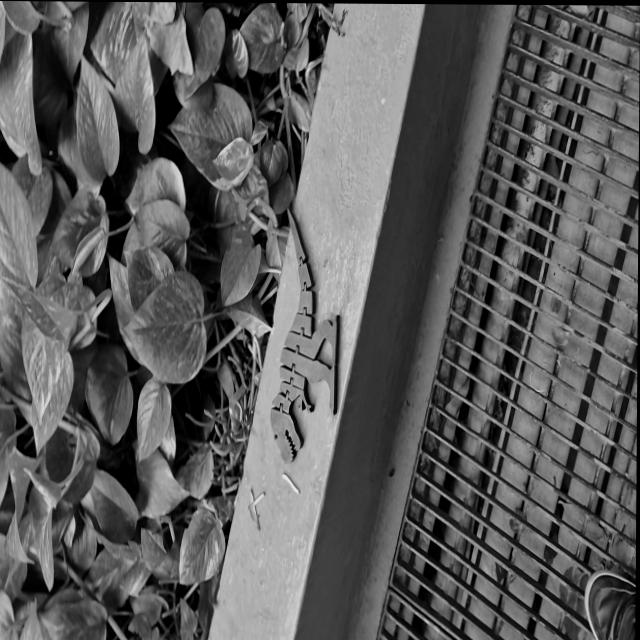dino: (270, 205, 341, 466)
